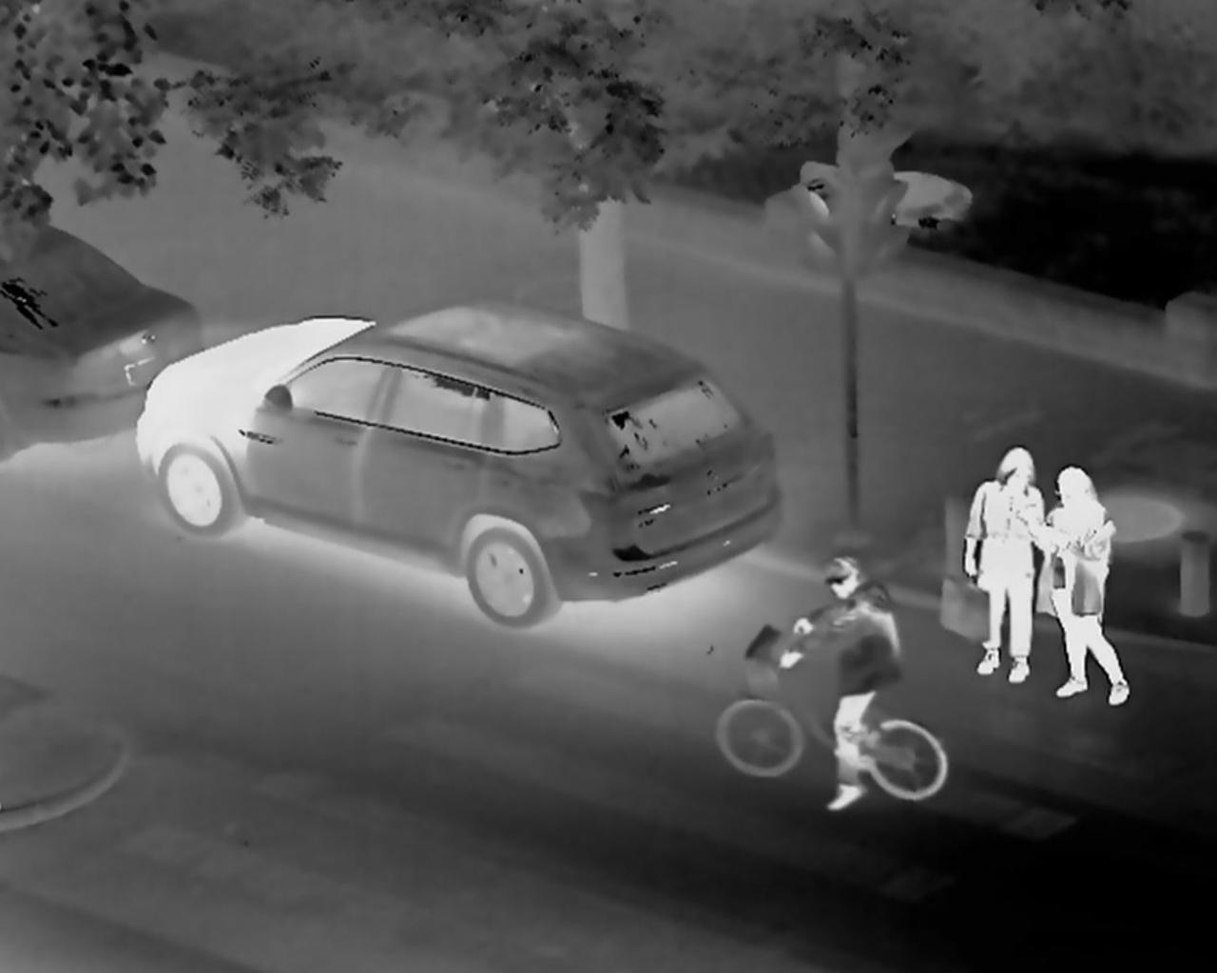person: (805, 541, 930, 825), (1038, 466, 1152, 715), (969, 450, 1025, 690)
